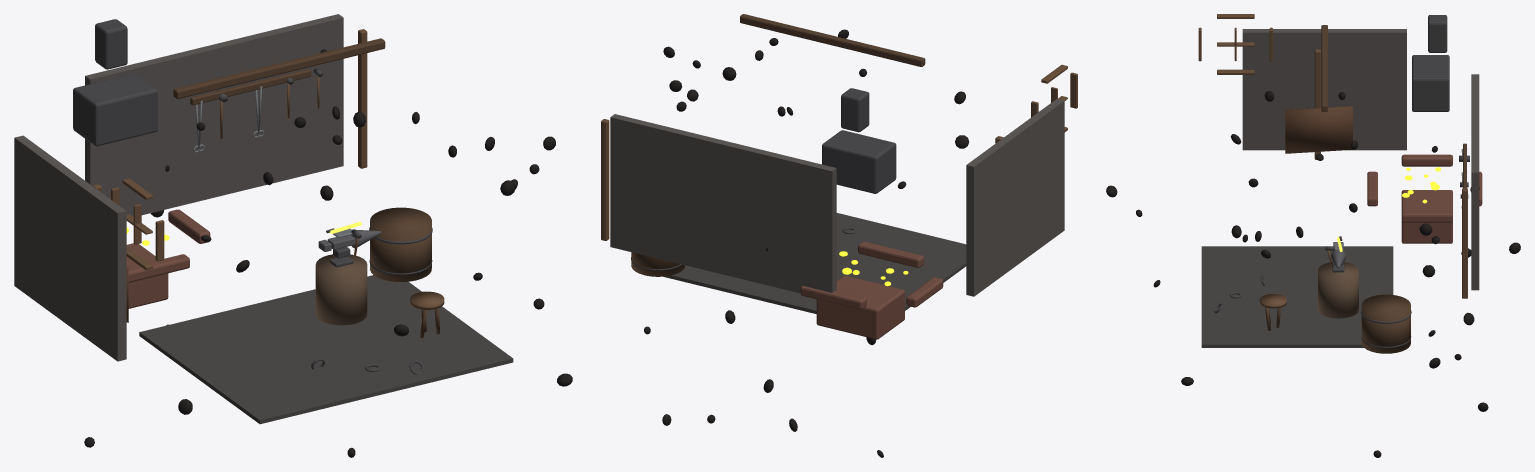
The picture shows the model from 3 angles, left to right: view 1: azimuth 30°, elevation 25°; view 2: azimuth 150°, elevation 25°; view 3: azimuth 270°, elevation 25°; orthographic projection. The views are drawn at different scales.
Visible parts, largest first — view 1: wall_b, floor, wall_l, hearth, tub, stump, coals, lintel, window, post_1, anvil, rack (+1 smaller); view 2: wall_b, wall_l, hearth, floor, coals, lintel, post_1, tub, window; view 3: wall_l, floor, hearth, apron, tub, coals, stump, wall_b, window, post_1, lintel, stool (+1 smaller).
Boxes of the visible parts, x1=… form: wall_b: x1=85, y1=14, x2=343, y2=216; floor: x1=139, y1=275, x2=513, y2=424; wall_l: x1=14, y1=135, x2=126, y2=361; hearth: x1=73, y1=19, x2=210, y2=308; tub: x1=369, y1=207, x2=432, y2=281; stump: x1=315, y1=254, x2=367, y2=325; coals: x1=84, y1=49, x2=572, y2=457; lintel: x1=173, y1=38, x2=385, y2=98; window: x1=111, y1=178, x2=164, y2=270; post_1: x1=358, y1=29, x2=367, y2=168; anvil: x1=318, y1=228, x2=381, y2=267; rack: x1=190, y1=69, x2=311, y2=105; wall_b: x1=610, y1=114, x2=836, y2=293; wall_l: x1=966, y1=99, x2=1064, y2=296; hearth: x1=800, y1=88, x2=943, y2=339; floor: x1=663, y1=213, x2=966, y2=313; coals: x1=644, y1=29, x2=968, y2=457; lintel: x1=740, y1=14, x2=925, y2=66; post_1: x1=601, y1=119, x2=609, y2=240; tub: x1=631, y1=252, x2=685, y2=276; window: x1=1031, y1=64, x2=1077, y2=132; wall_l: x1=1242, y1=29, x2=1406, y2=150; floor: x1=1201, y1=246, x2=1393, y2=347; hearth: x1=1367, y1=15, x2=1482, y2=243; apron: x1=1285, y1=106, x2=1352, y2=153; tub: x1=1361, y1=294, x2=1411, y2=353; coals: x1=1106, y1=91, x2=1520, y2=457; stump: x1=1318, y1=262, x2=1358, y2=318; wall_b: x1=1471, y1=74, x2=1479, y2=290; window: x1=1198, y1=14, x2=1272, y2=74; post_1: x1=1462, y1=188, x2=1467, y2=298; lintel: x1=1321, y1=25, x2=1327, y2=111; stool: x1=1259, y1=294, x2=1286, y2=330.
Size of the model in its own units: 6.01 by 5.82 by 6.06.
